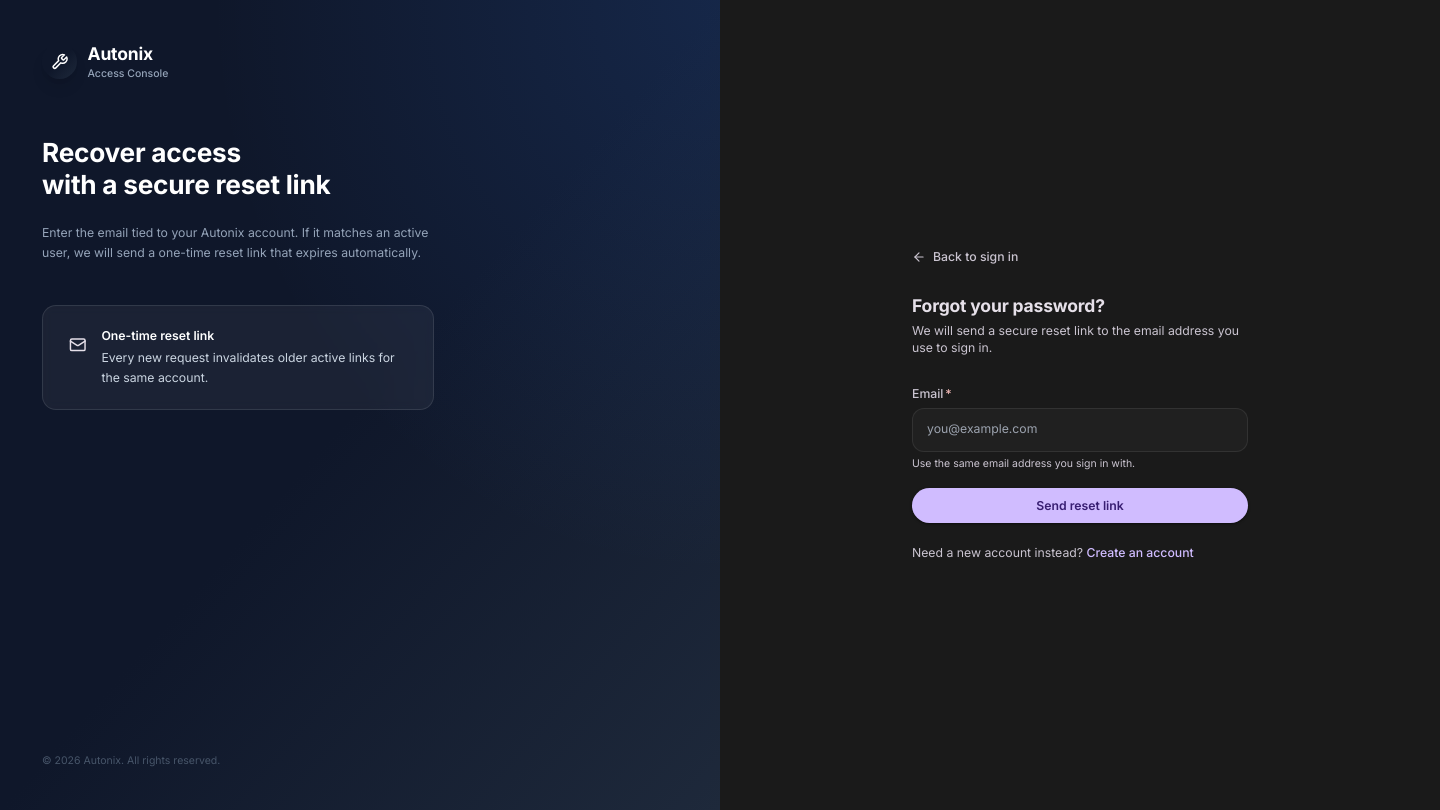
Test case: ForgotPasswordPage › submits the email and shows the generic success response
Type "portal@example.com" into the field labelled "Email*" at (1080, 430), box [912, 408, 1248, 452]
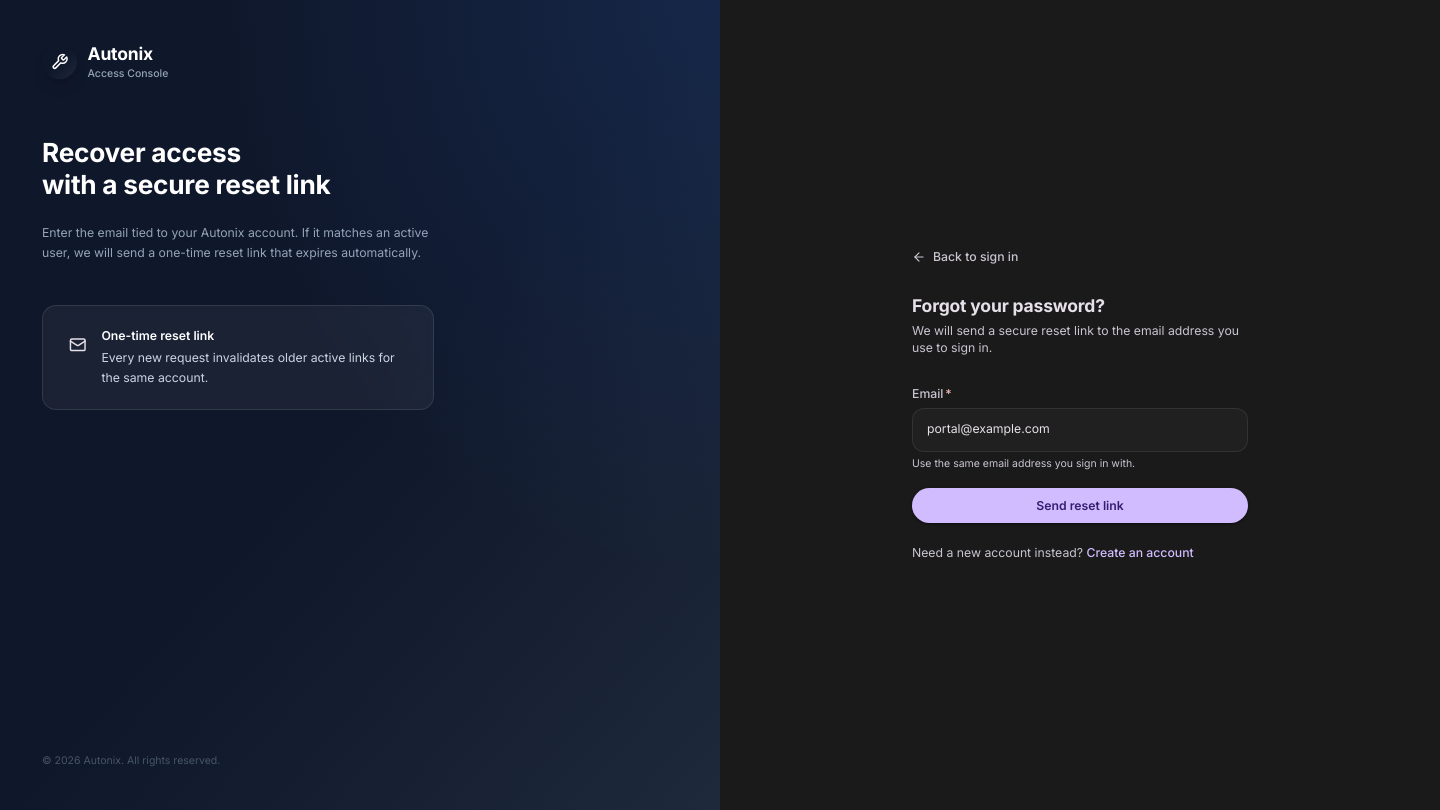
Click the button "Send reset link" at (1080, 506), box [912, 488, 1248, 523]
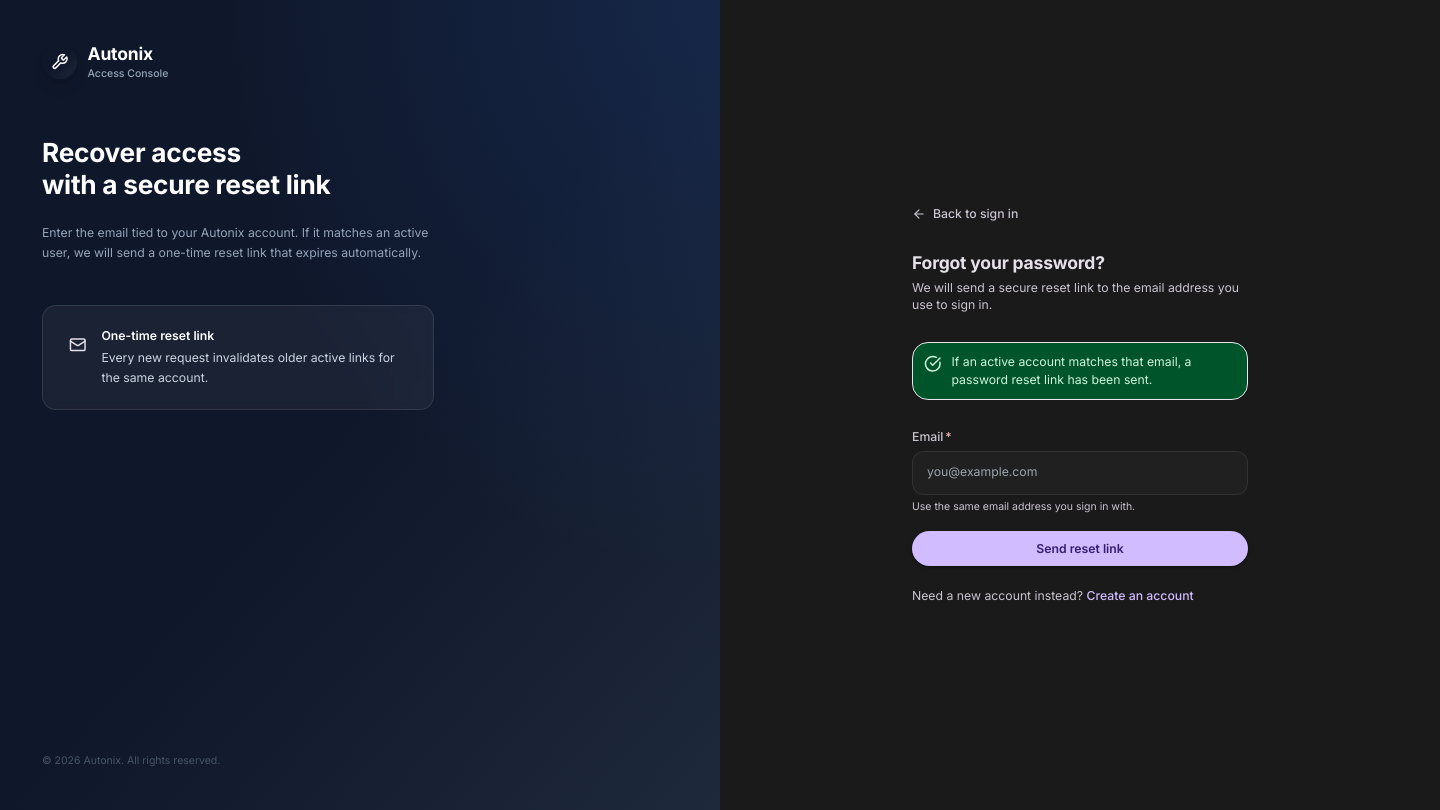
Now the text "If an active account matches that email, a password reset link has been sent." is shown, box [952, 354, 1192, 387]
